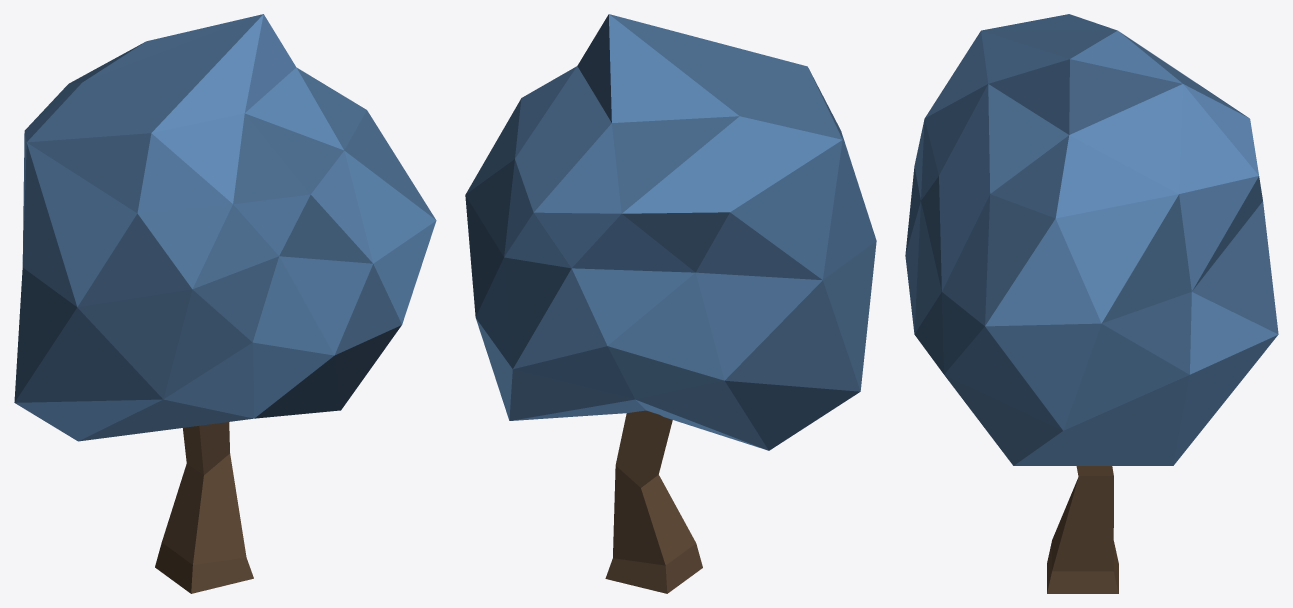
Rendered from Tree_3_Blue.fbx.
3 renders of one model, left to right at view 1: azimuth 30°, elevation 25°; view 2: azimuth 150°, elevation 25°; view 3: azimuth 270°, elevation 25°, orthographic.
Parts seen in each view (by area): view 1: Tree_3_Blue_Part_2, Tree_3_Blue_Part_3, Tree_3_Blue_Part_1; view 2: Tree_3_Blue_Part_2, Tree_3_Blue_Part_3, Tree_3_Blue_Part_1; view 3: Tree_3_Blue_Part_2, Tree_3_Blue_Part_3, Tree_3_Blue_Part_1.
Boxes of the visible parts, x1,y1,x2,y2 form: Tree_3_Blue_Part_2: (14, 14, 436, 441); Tree_3_Blue_Part_3: (14, 14, 435, 441); Tree_3_Blue_Part_1: (155, 422, 253, 593); Tree_3_Blue_Part_2: (465, 14, 876, 450); Tree_3_Blue_Part_3: (465, 14, 876, 420); Tree_3_Blue_Part_1: (605, 410, 702, 593); Tree_3_Blue_Part_2: (905, 30, 1278, 465); Tree_3_Blue_Part_3: (905, 14, 1278, 465); Tree_3_Blue_Part_1: (1047, 466, 1118, 593).
Bounding box in the file's own units: 433 × 596 × 370.
